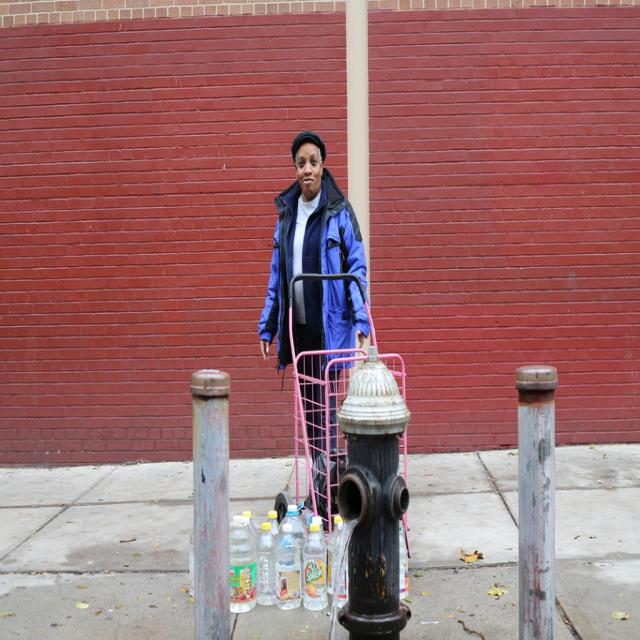fire_hydrant: (335, 342, 409, 638)
